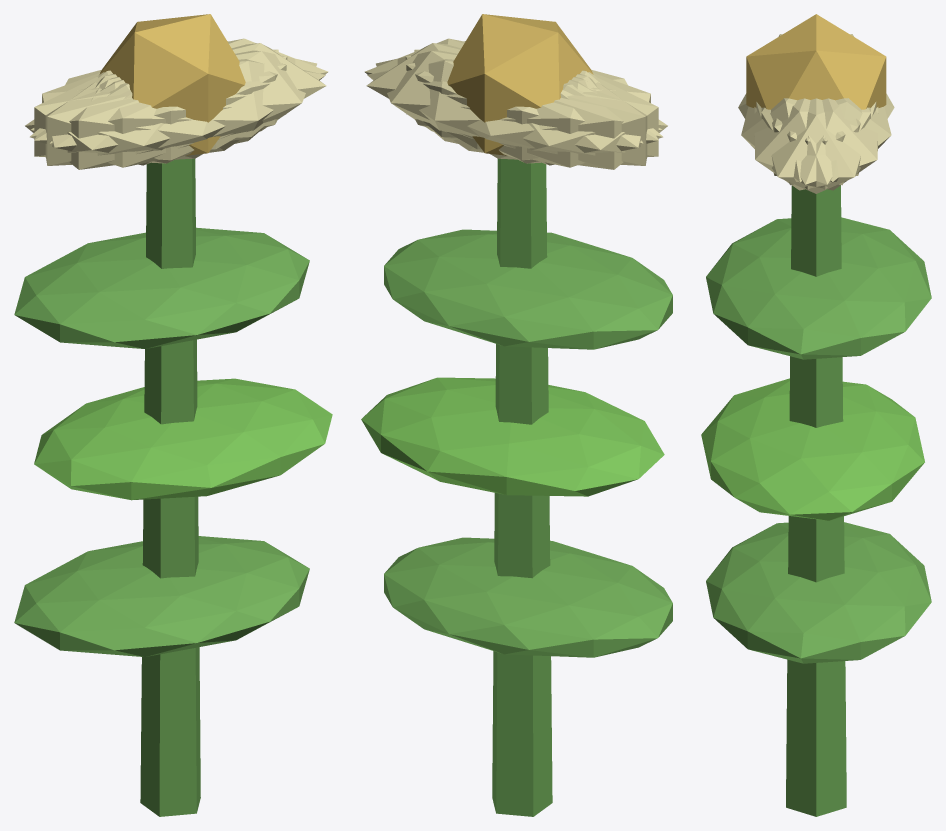
Rendered from melampodium-divaricatum.glb.
3 views of the same model, side by side, from view 1: azimuth 30°, elevation 25°; view 2: azimuth 150°, elevation 25°; view 3: azimuth 270°, elevation 25° (orthographic).
Parts seen in each view (by area): view 1: leaf1, leaf2, leaf0, stem, center, petal1, petal6, petal2, petal5, petal7, petal0, petal4 (+2 smaller); view 2: leaf2, leaf0, leaf1, stem, center, petal8, petal3, petal7, petal4, petal2, petal0, petal5 (+2 smaller); view 3: leaf1, leaf2, leaf0, stem, center, petal0, petal4, petal5, petal8, petal1.
Part boxes in pixels (box(x1,y1,x2,y2)): leaf1: box(34, 378, 332, 500); leaf2: box(14, 227, 309, 348); leaf0: box(14, 536, 309, 656); stem: box(140, 158, 200, 816); center: box(99, 14, 245, 155); petal1: box(30, 59, 325, 167); petal6: box(25, 72, 239, 169); petal2: box(45, 49, 278, 165); petal5: box(49, 50, 316, 160); petal7: box(34, 55, 287, 163); petal0: box(99, 43, 326, 149); petal4: box(31, 38, 328, 140); leaf2: box(384, 229, 672, 349); leaf0: box(384, 537, 672, 657); leaf1: box(361, 377, 664, 496); stem: box(492, 158, 552, 816); center: box(447, 14, 593, 155); petal8: box(367, 59, 662, 167); petal3: box(453, 72, 667, 169); petal7: box(414, 49, 647, 165); petal4: box(376, 50, 643, 160); petal2: box(405, 55, 658, 163); petal0: box(366, 43, 593, 149); petal5: box(364, 38, 661, 140); leaf1: box(701, 378, 924, 520); leaf2: box(706, 217, 931, 359); leaf0: box(706, 522, 931, 663); stem: box(786, 185, 846, 816); center: box(746, 14, 886, 109); petal0: box(756, 98, 876, 193); petal4: box(761, 98, 878, 190); petal5: box(754, 98, 870, 190); petal8: box(772, 98, 891, 182); petal1: box(741, 98, 860, 182).
Bounding box in the file's own units: 0.1487 × 0.3719 × 0.1008.
